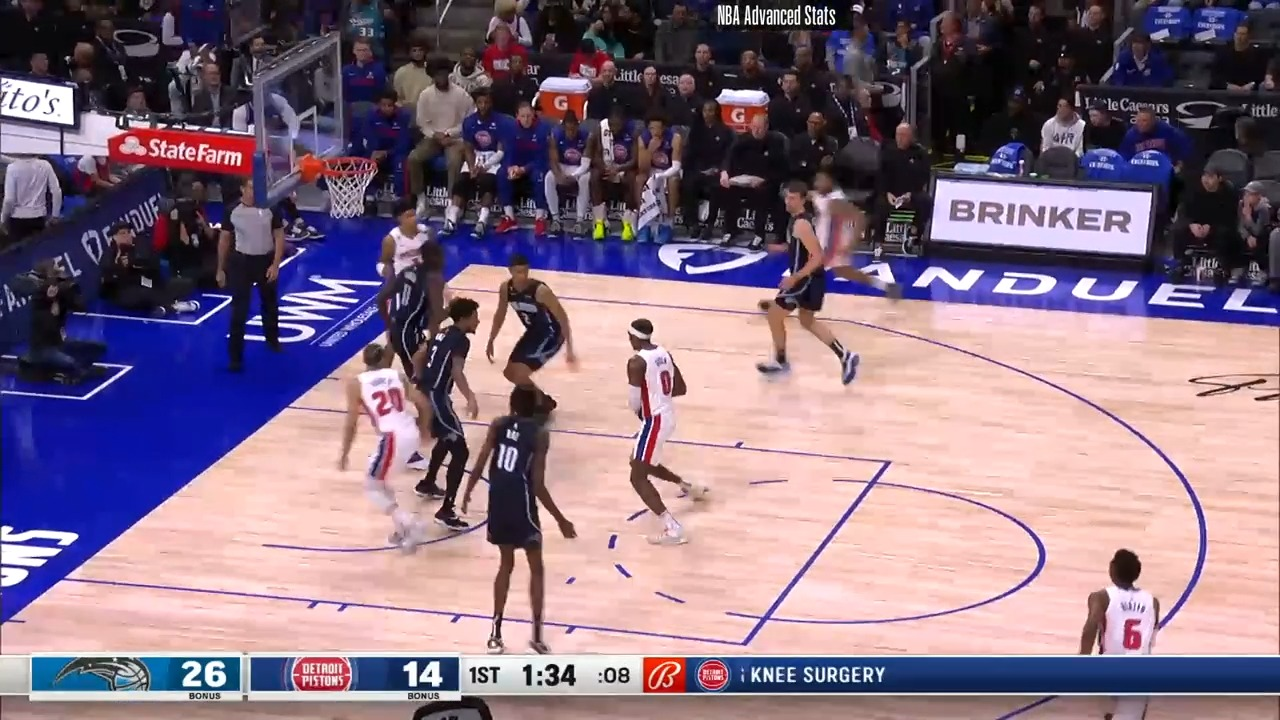net: (296, 147, 380, 225)
player: (460, 385, 572, 658), (614, 316, 713, 551), (761, 171, 864, 391), (338, 339, 436, 557), (407, 298, 488, 532), (486, 254, 586, 422), (803, 164, 905, 311), (381, 233, 451, 415), (1074, 548, 1169, 659), (376, 204, 440, 356)
referee: (218, 181, 293, 371)
